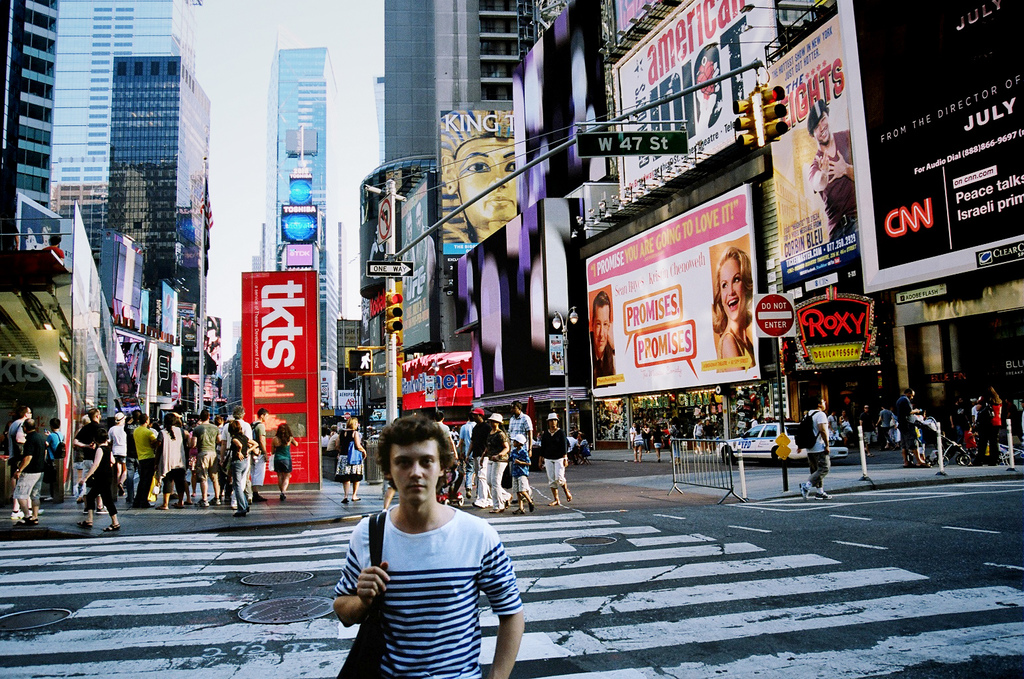Human-face: (457, 132, 517, 223), (386, 434, 444, 501), (717, 263, 743, 320), (587, 308, 611, 349), (811, 119, 832, 145)
